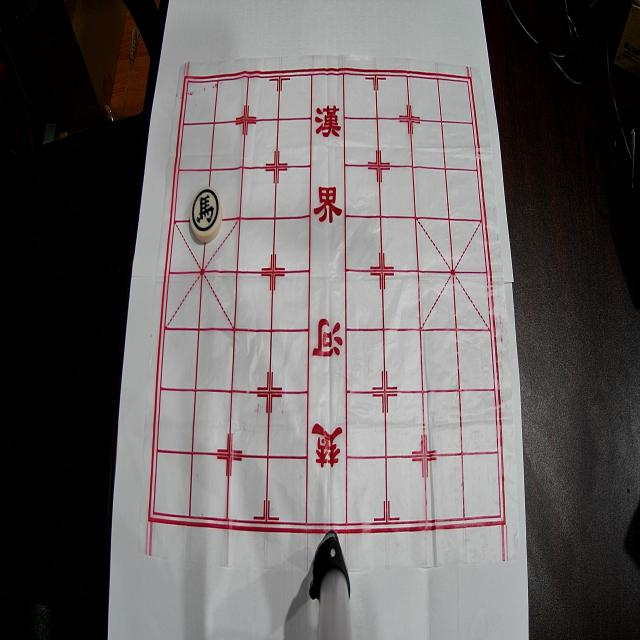black-horse: (190, 186, 222, 242)
